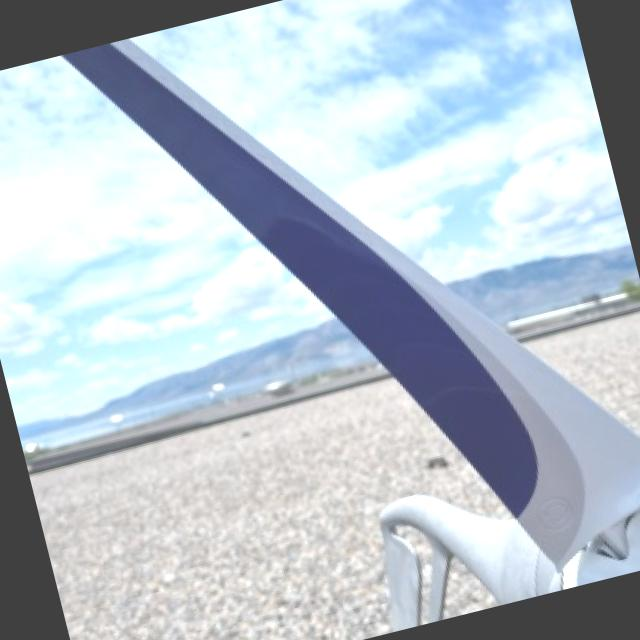healthy: (138, 0, 627, 271), (0, 56, 284, 420)
